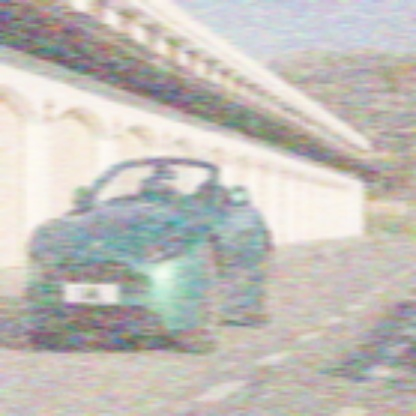Vehicle: (22, 157, 273, 352)
